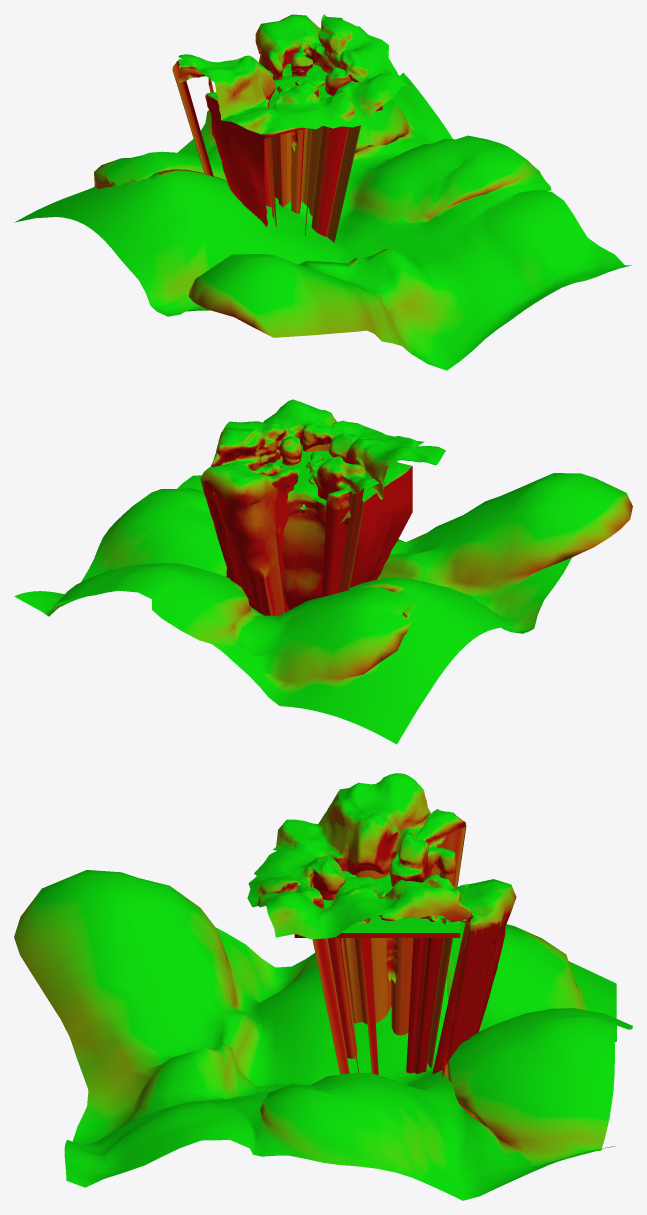
Rendered from wetland-aspect.glb.
3 views of the same model, one above another, from view 1: azimuth 30°, elevation 25°; view 2: azimuth 150°, elevation 25°; view 3: azimuth 270°, elevation 25° (orthographic). The views are drawn at different scales.
Visible parts, largest first — view 1: wetland-aspect-terrain; view 2: wetland-aspect-terrain; view 3: wetland-aspect-terrain.
Part boxes in pixels (x1,y1,x2,y2): wetland-aspect-terrain: (14, 14, 631, 370); wetland-aspect-terrain: (14, 399, 632, 744); wetland-aspect-terrain: (14, 773, 632, 1200).
Size of the model in its own units: 21.31 by 11.9 by 22.41.
